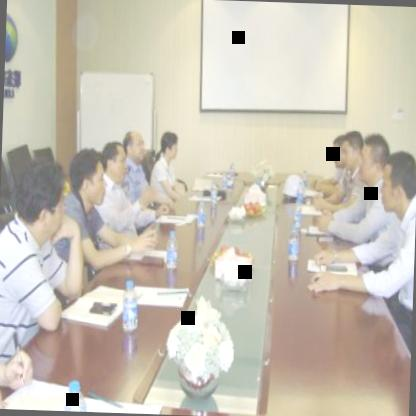head: (13, 157, 68, 240), (68, 146, 106, 212), (381, 148, 416, 219), (358, 130, 390, 188), (100, 141, 126, 185), (340, 127, 362, 174), (122, 127, 149, 165), (156, 129, 180, 166), (329, 134, 344, 172)
